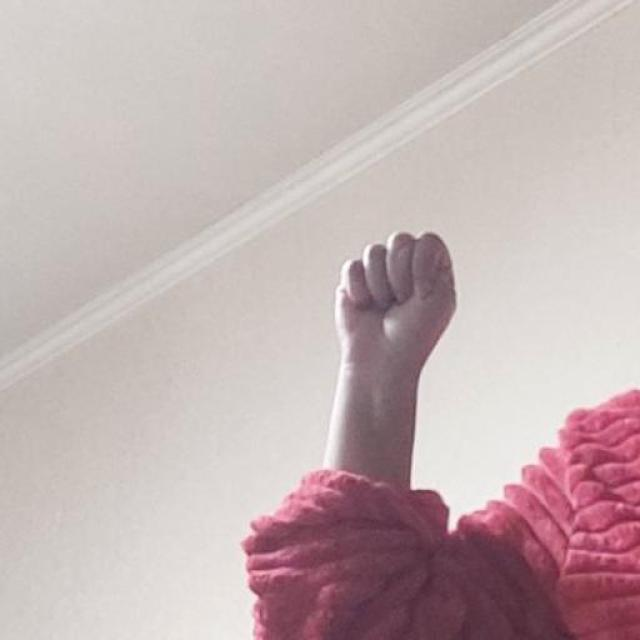hand: (240, 229, 639, 639), (322, 229, 458, 489)
